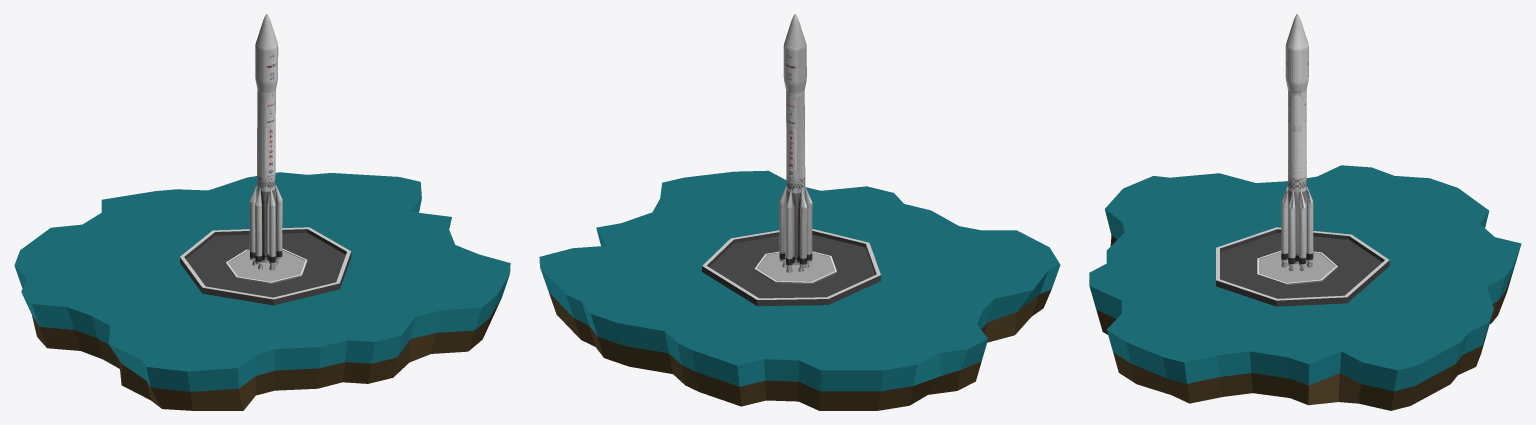
The model's file is ProtonM.gltf.
3 views of the same model, side by side, from view 1: azimuth 30°, elevation 25°; view 2: azimuth 150°, elevation 25°; view 3: azimuth 270°, elevation 25° (orthographic).
Visible parts, largest first — view 1: Cylinder.003, Cylinder.006; view 2: Cylinder.003, Cylinder.006; view 3: Cylinder.003, Cylinder.006.
Part boxes in pixels (x1,y1,x2,y2): Cylinder.003: [14, 172, 510, 410]; Cylinder.006: [249, 14, 282, 270]; Cylinder.003: [539, 170, 1060, 410]; Cylinder.006: [779, 14, 812, 272]; Cylinder.003: [1089, 165, 1521, 410]; Cylinder.006: [1281, 14, 1313, 271].
Size of the model in its own units: 8.06 by 5.55 by 7.18.
Materials: 9 (1 with a texture image).
